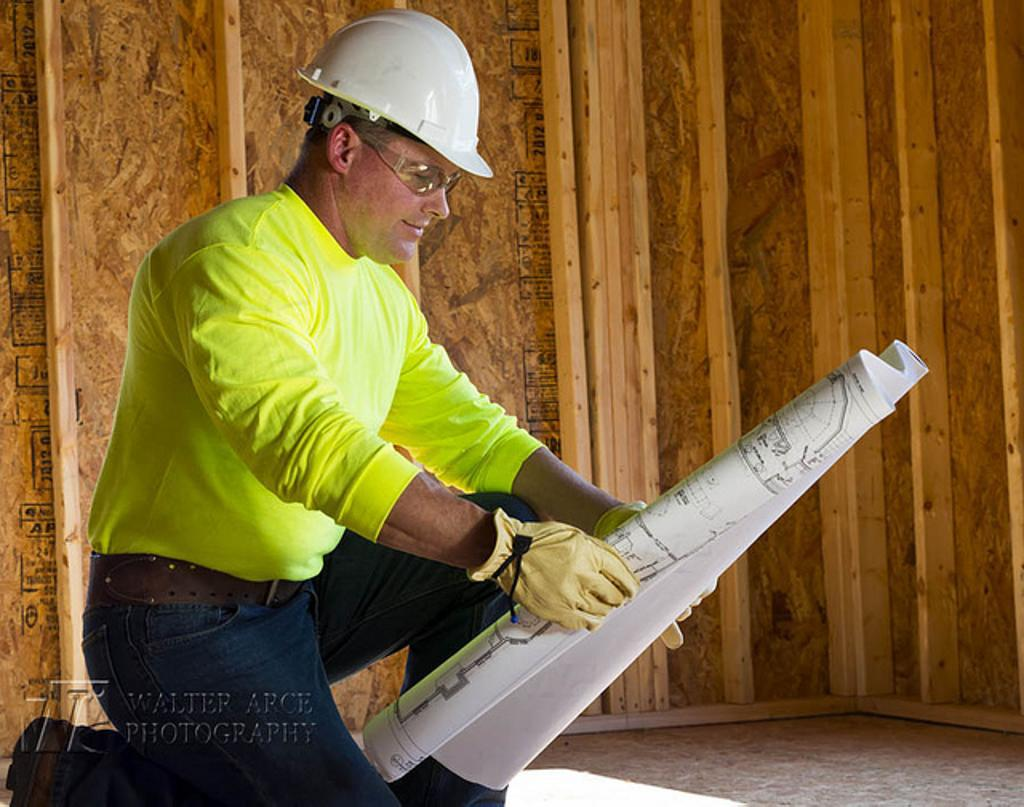face: (353, 87, 457, 253)
